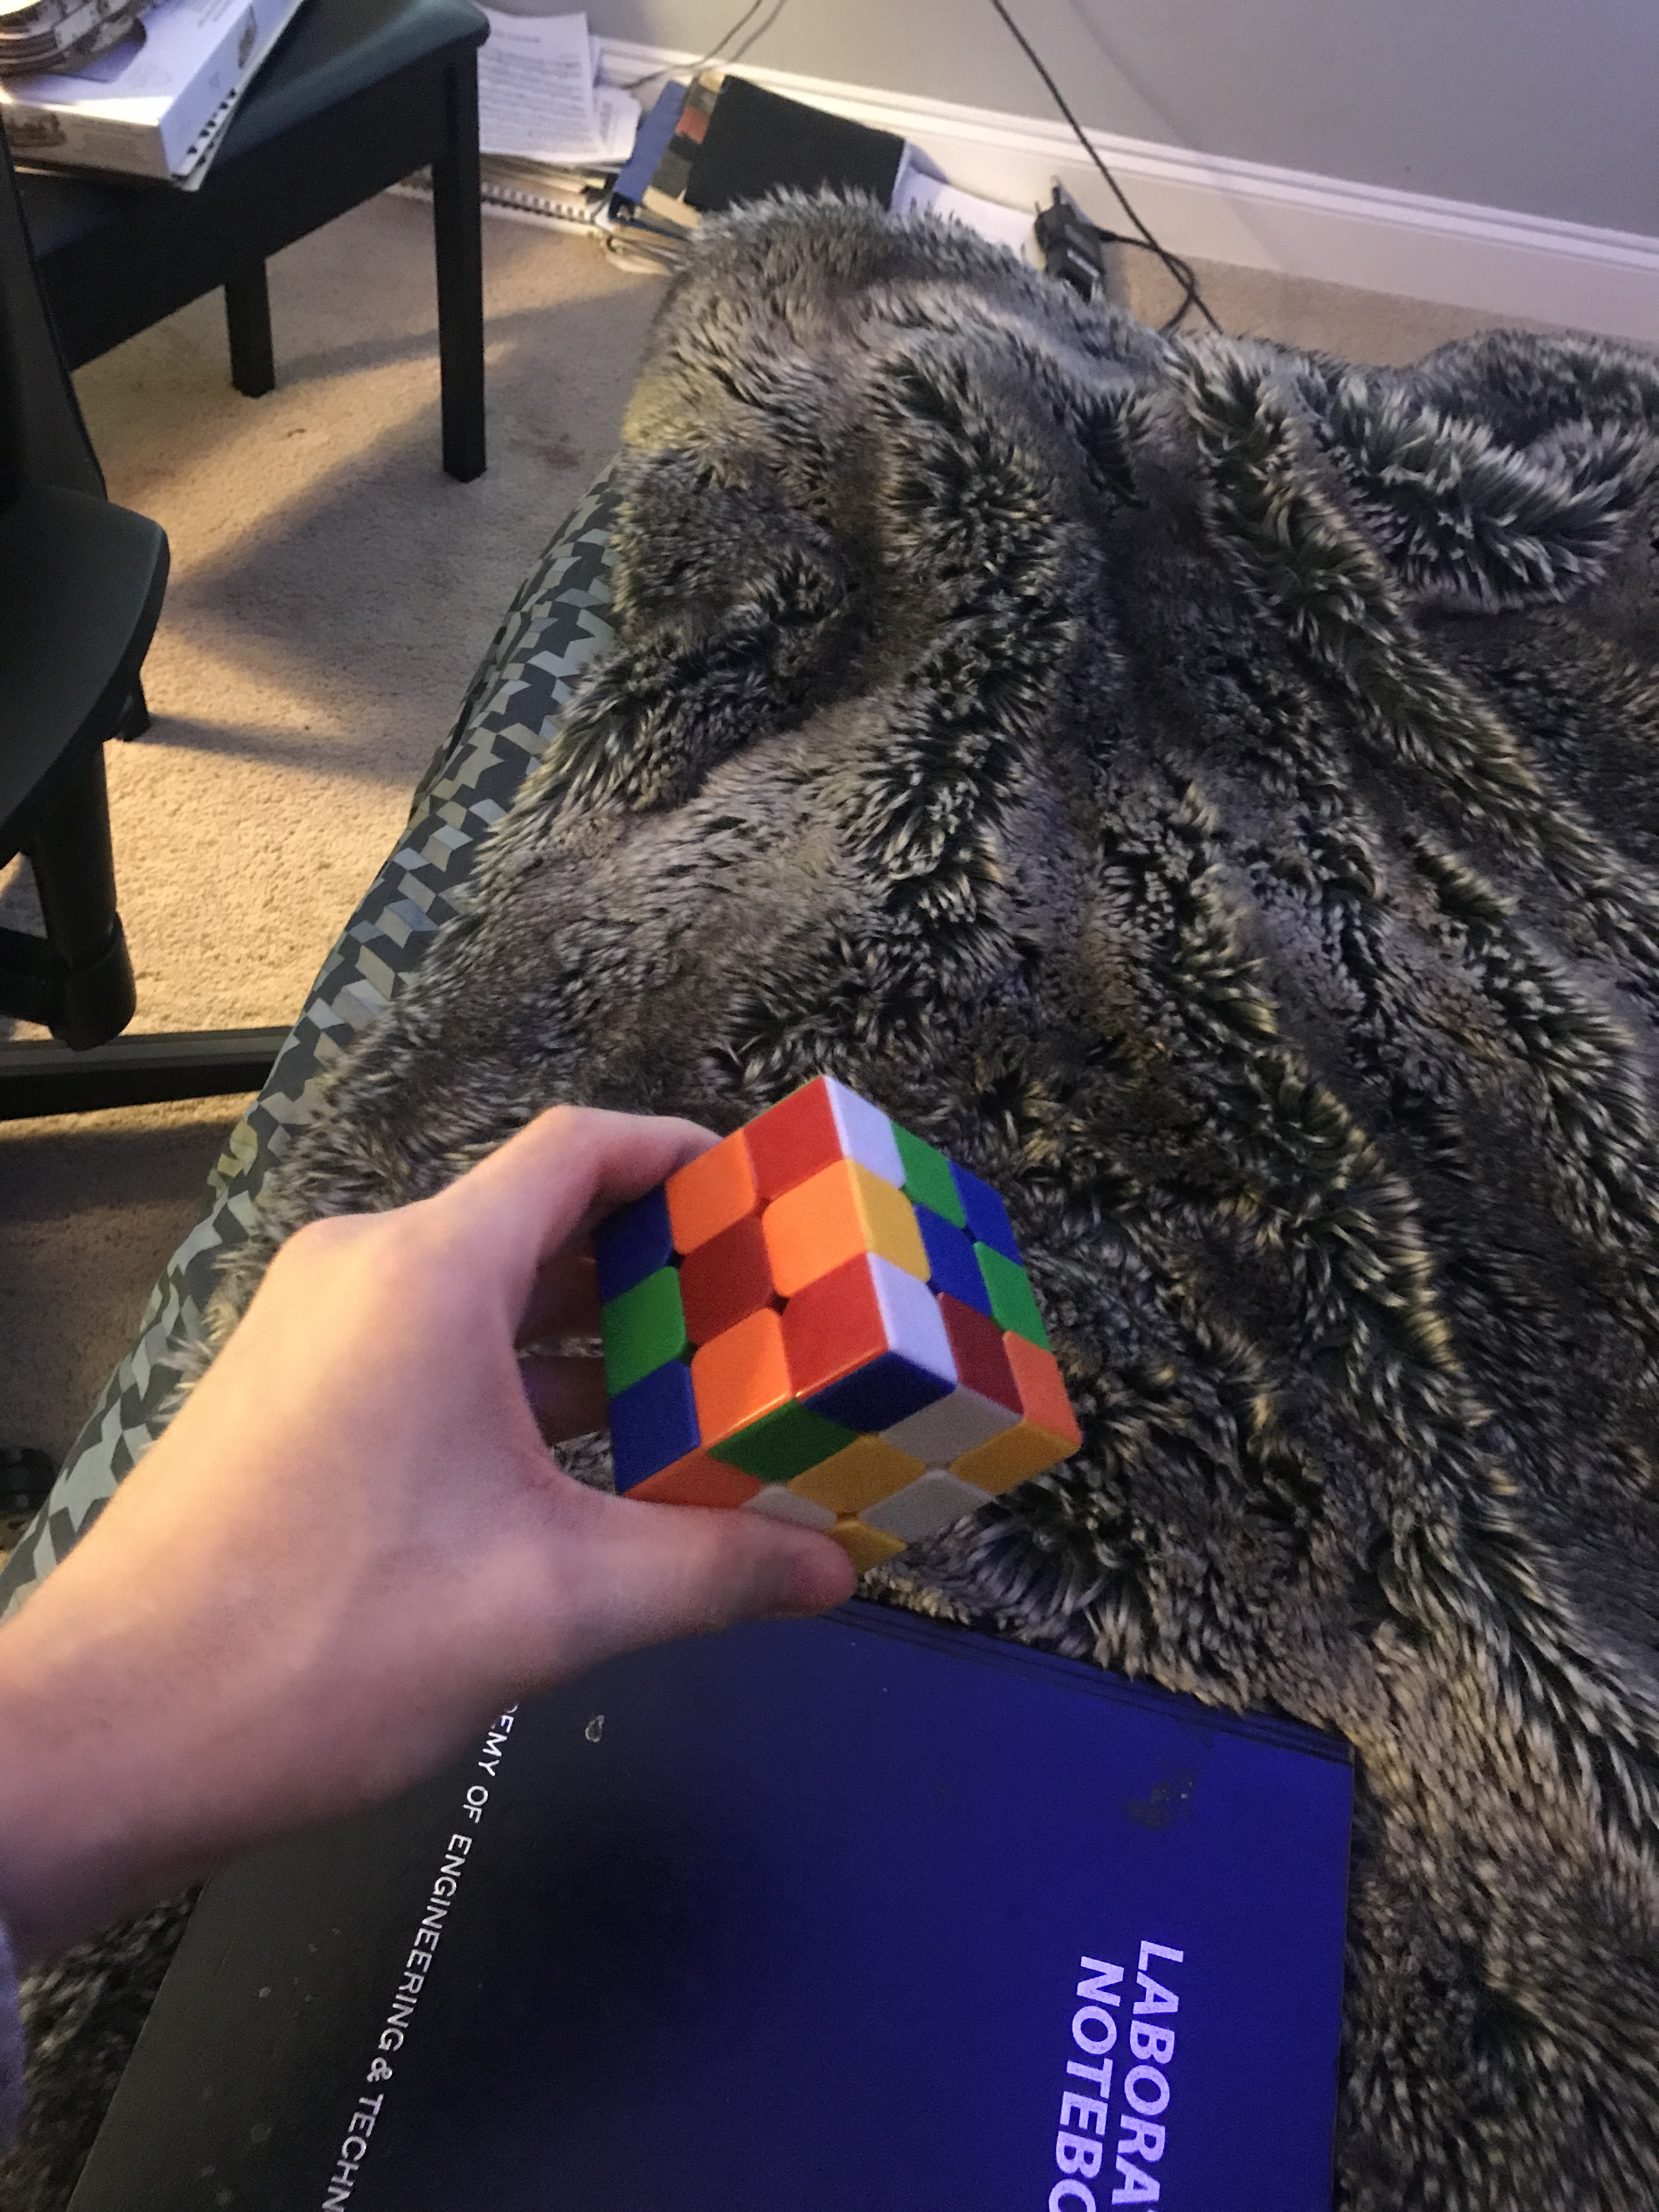rubiks: (582, 1078, 1089, 1604)
